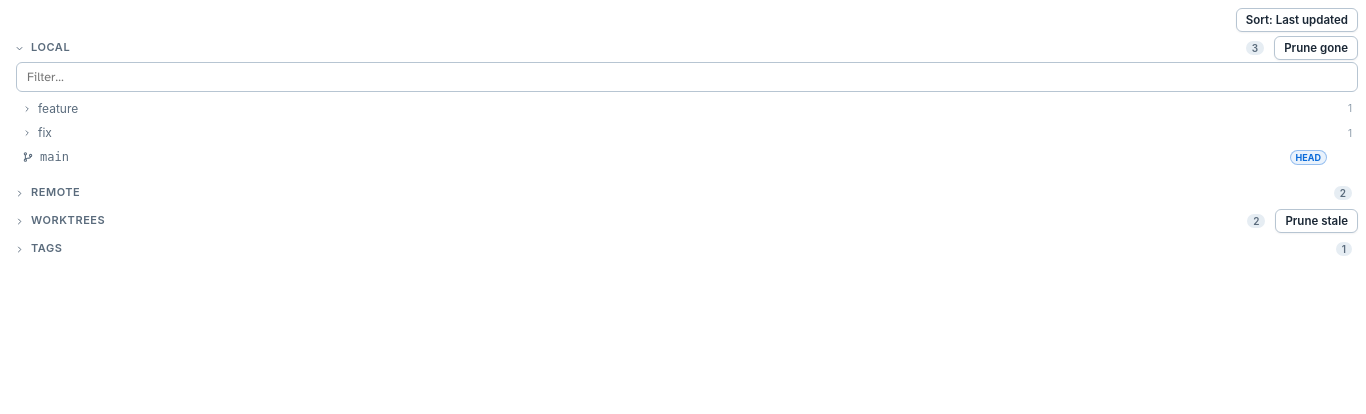
RepoSidebar worktrees › highlights the main worktree when context is null, else the matching one
Click the button "Worktrees 2": (68, 220) [8, 209, 1271, 233]
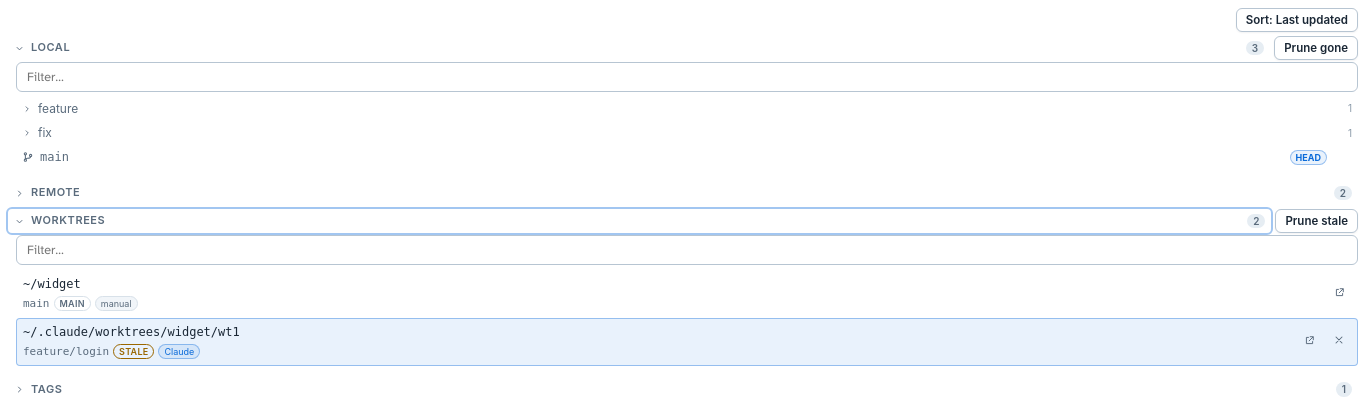
Expected: the button "~/.claude/worktrees/widget/wt1 feature/login stale Claude" is shown, [16, 318, 1358, 366]
